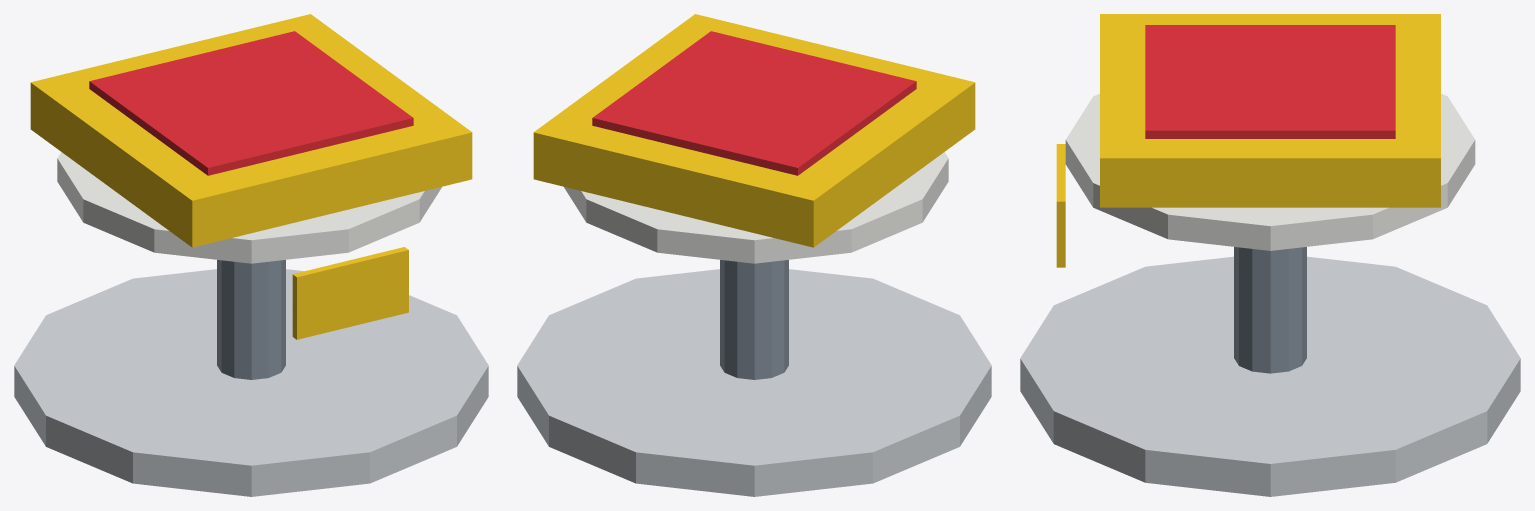
Rendered from item-frozen_pizza.glb.
3 views of the same model, side by side, from view 1: azimuth 30°, elevation 25°; view 2: azimuth 150°, elevation 25°; view 3: azimuth 270°, elevation 25° (orthographic). The views are drawn at different scales.
Visible parts, largest first — view 1: item-frozen_pizza; view 2: item-frozen_pizza; view 3: item-frozen_pizza.
Boxes of the visible parts, x1,y1,x2,y2 form: item-frozen_pizza: (14,14,488,496); item-frozen_pizza: (517,14,991,496); item-frozen_pizza: (1020,14,1520,496).
Size of the model in its own units: 1.1 by 0.76 by 1.1.
